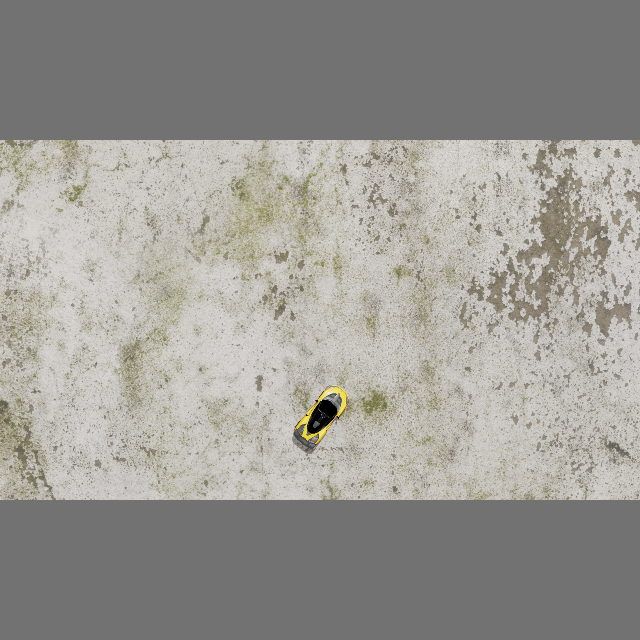car: (289, 380, 355, 453)
